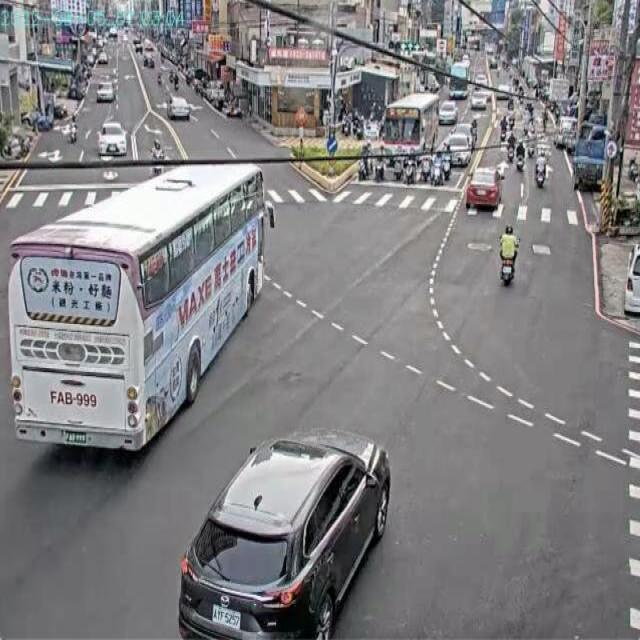Bus: (6, 162, 269, 453)
Car: (623, 241, 639, 315)
Motorcycle: (498, 241, 519, 286)
Police-car: (176, 426, 391, 639)
